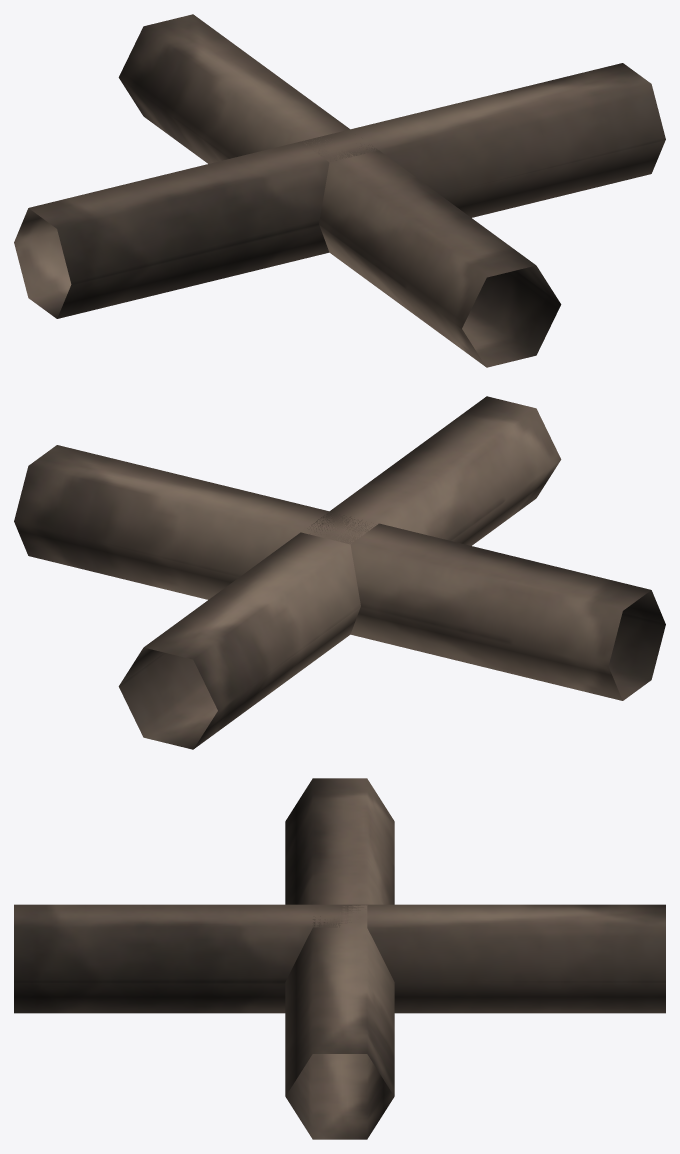
Rendered from PIPE_CROSS.fbx.
3 renders of one model, top to bottom at view 1: azimuth 30°, elevation 25°; view 2: azimuth 150°, elevation 25°; view 3: azimuth 270°, elevation 25°, orthographic. The views are drawn at different scales.
Visible parts, largest first — view 1: polySurface7; view 2: polySurface7; view 3: polySurface7.
Part boxes in pixels (x1,y1,x2,y2): polySurface7: (14,14,665,367); polySurface7: (14,396,665,749); polySurface7: (14,778,665,1139).
Size of the model in its own units: 9.44 by 1.37 by 9.44.
